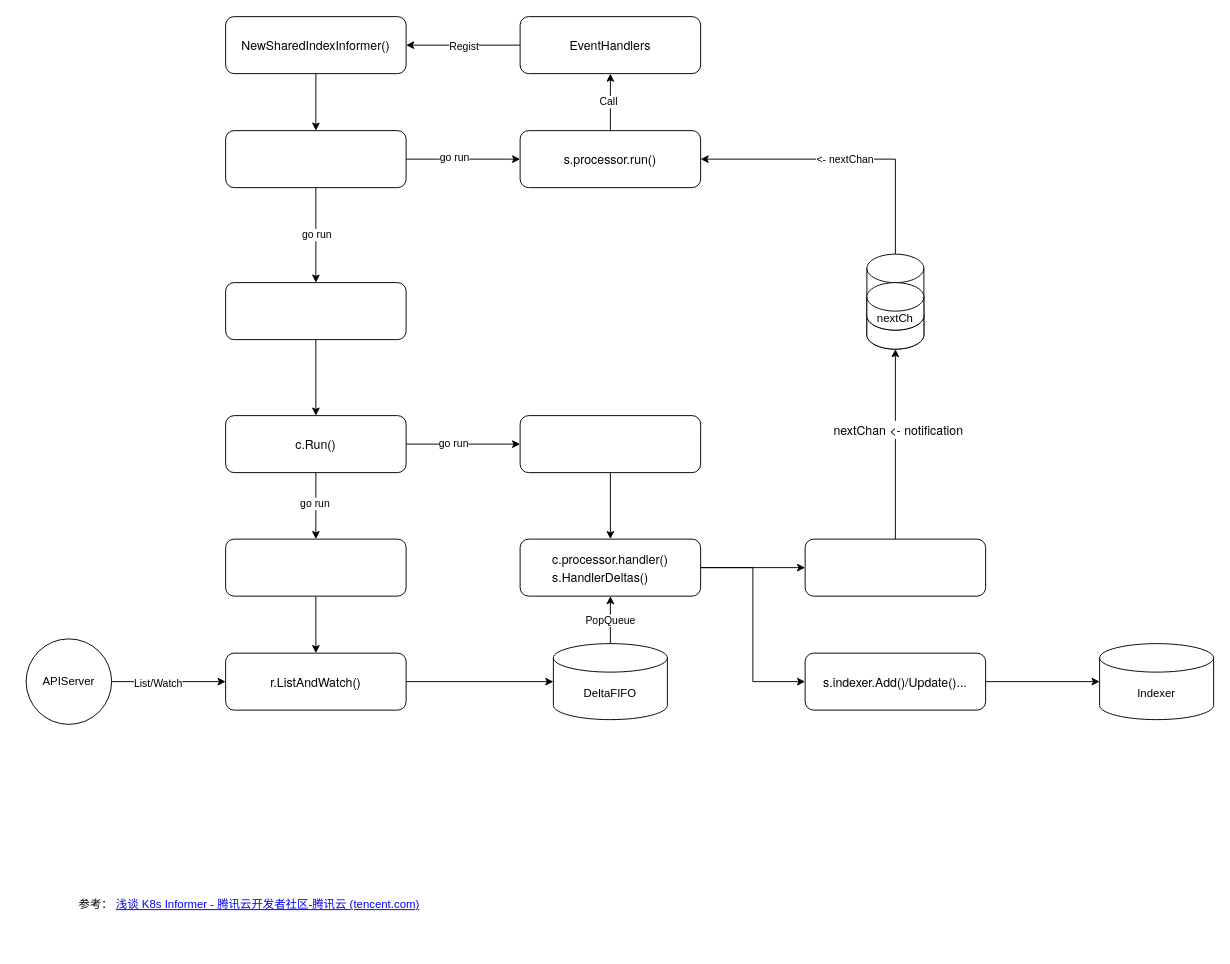
Image size: 1230x964. Some labels were removed from this diagram. The centre of each missing label's shape, as x and y in pixels:
"c.processLoop()" belongs at pixel 610 444.
"c.r.run()" belongs at pixel 315 567.
"s.controller.run()" belongs at pixel 315 311.
"s.processor.distribute()" belongs at pixel 895 567.
"sharedIndexInformer.Run()" belongs at pixel 315 159.
